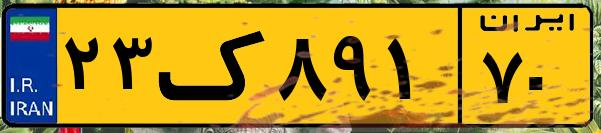0: (525, 38, 570, 115)
1: (385, 28, 445, 110)
2: (57, 26, 110, 100)
3: (110, 28, 158, 98)
7: (475, 38, 525, 113)
8: (270, 28, 330, 110)
9: (330, 28, 385, 110)
ک: (158, 12, 270, 120)
